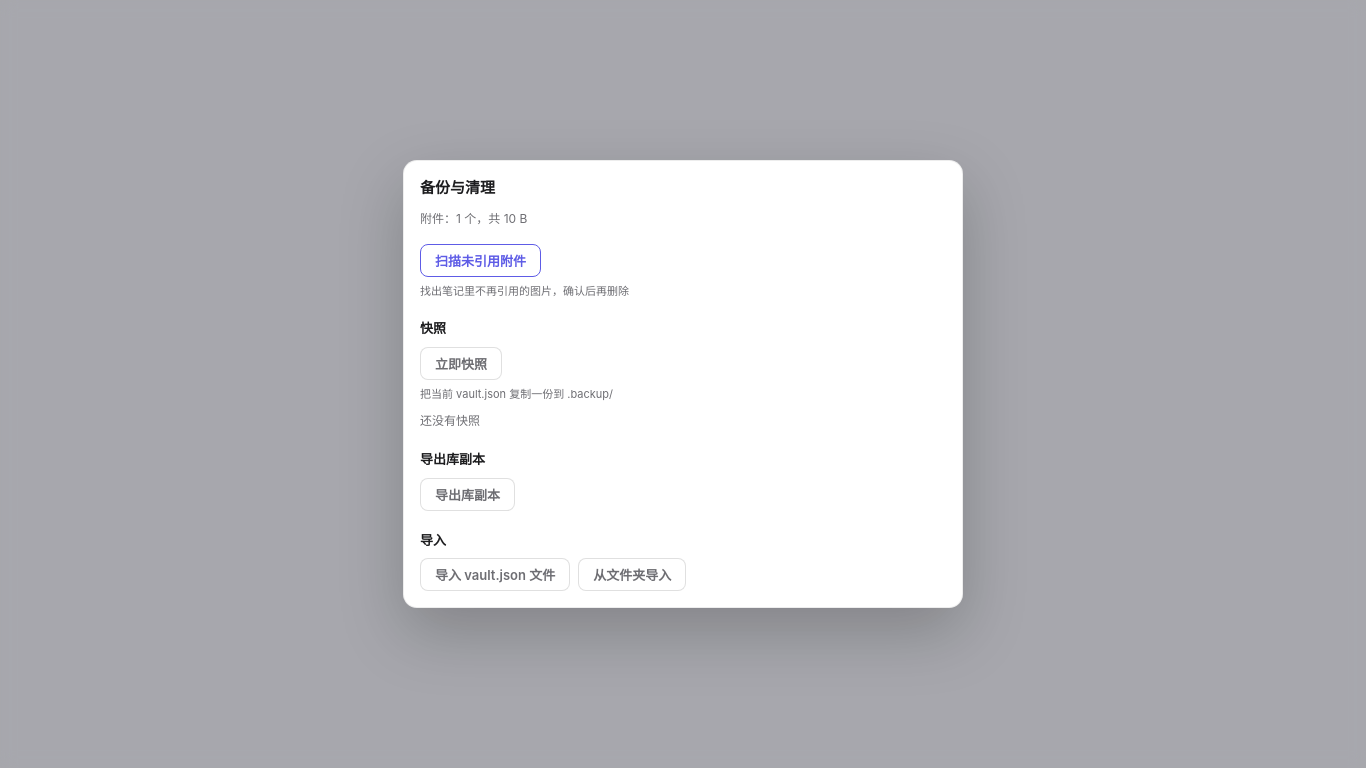
T26-3 · 确认清理（第二次点击才真删） › cleanup 失败展示错误，不误报成功
This screenshot has width=1366, height=768.
Click the button with test id "backup-gc-scan" at (480, 260), box top-left (420, 244), bottom-right (541, 276)
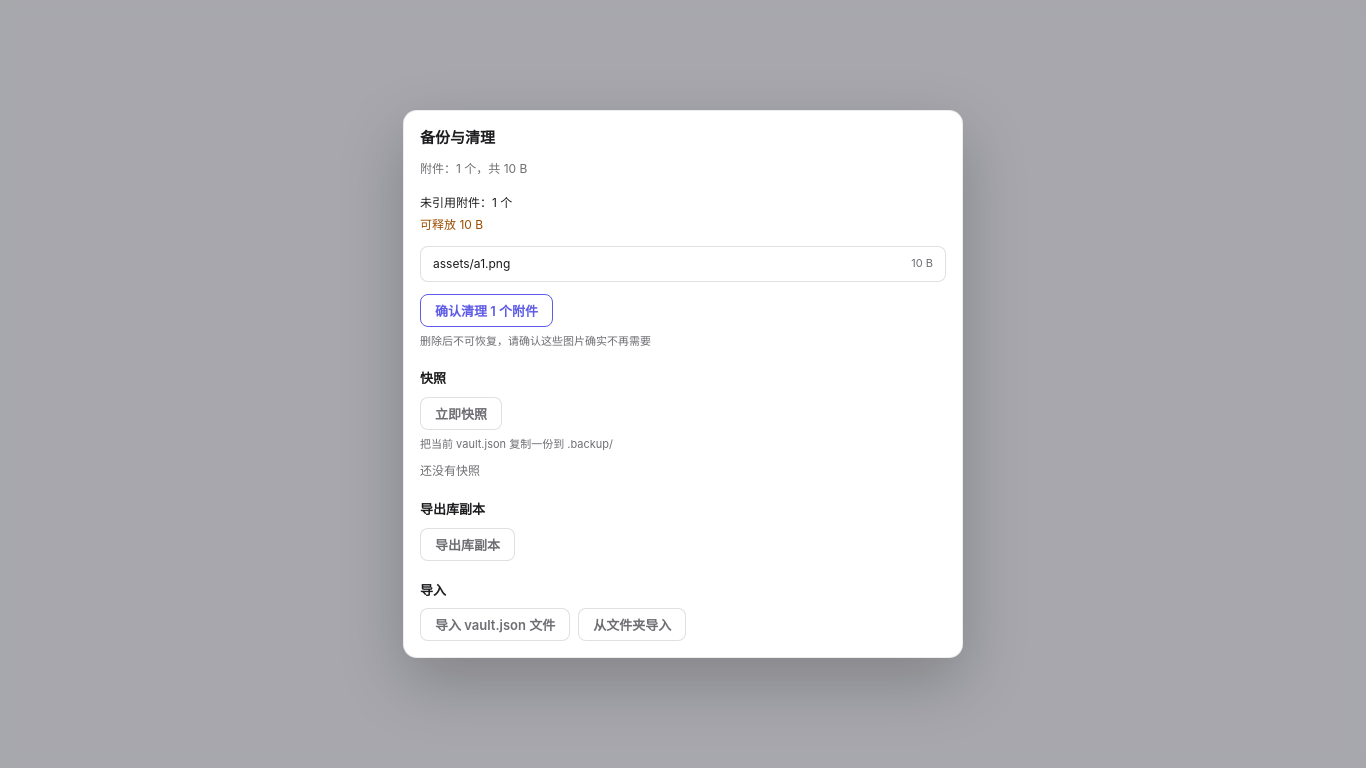
Click the button with test id "backup-gc-confirm" at (487, 310), box top-left (420, 294), bottom-right (553, 326)
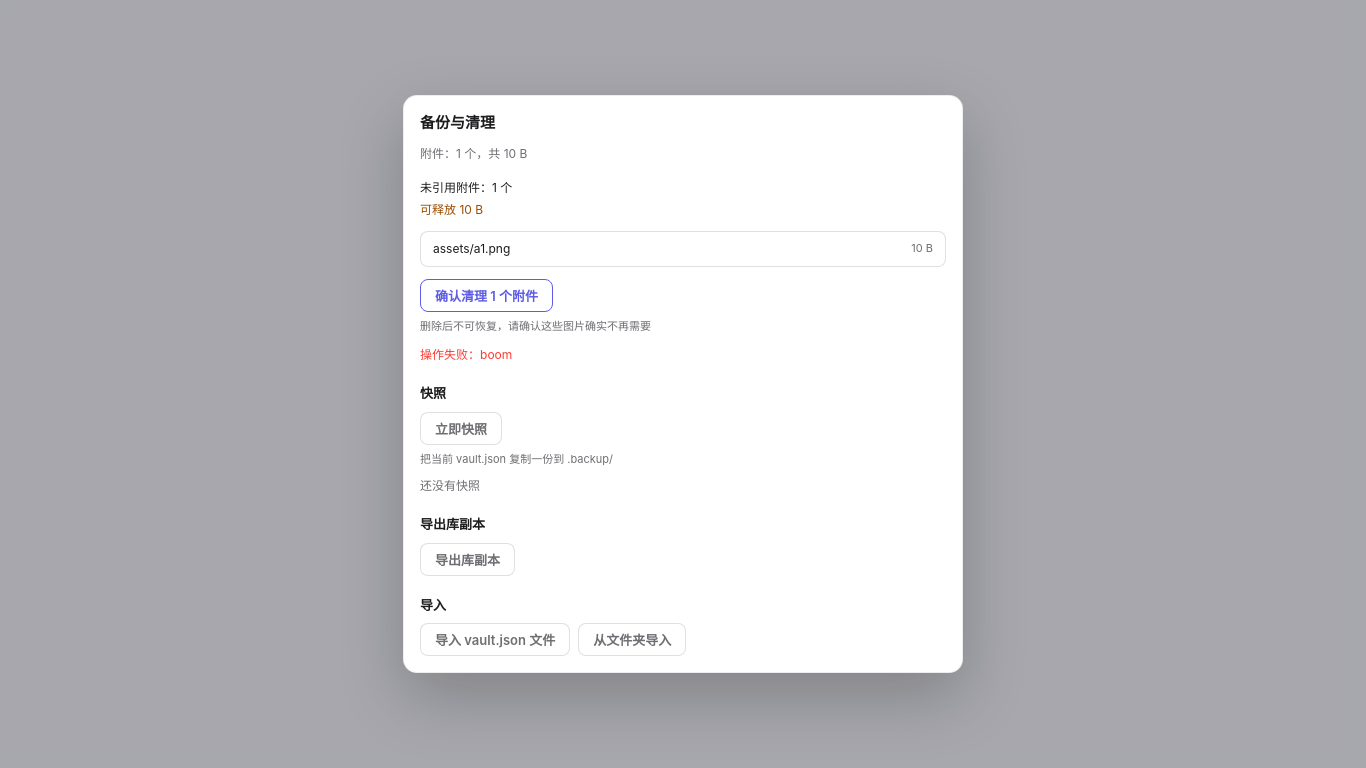
Now the text "操作失败：boom" is shown, box top-left (420, 347), bottom-right (512, 362)
